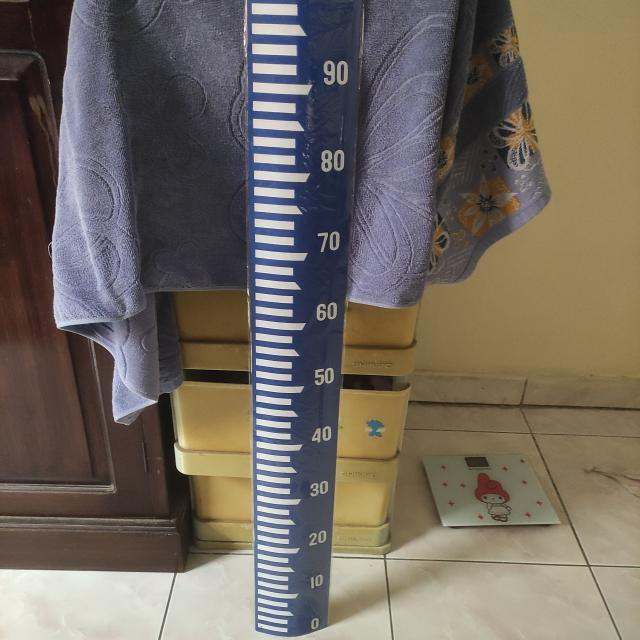10: (308, 574, 324, 590)
20: (308, 528, 328, 548)
30: (309, 479, 329, 501)
40: (310, 424, 332, 447)
50: (312, 368, 336, 388)
60: (314, 300, 338, 323)
70: (314, 228, 344, 254)
80: (317, 148, 350, 174)
90: (322, 59, 350, 87)
staff: (244, 0, 359, 635)
